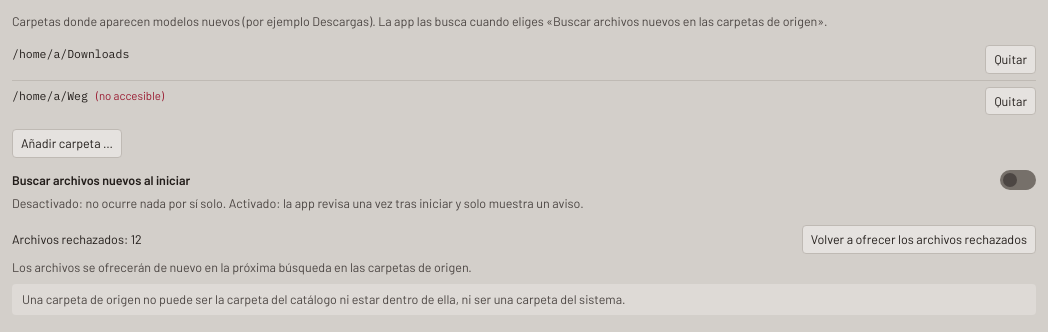
Test case: keeps the full declined-file action operable in es
The width and height of the screenshot is (1048, 332).
Click the button "Volver a ofrecer los archivos rechazados". click: (919, 239)
box: [802,225,1036,254]
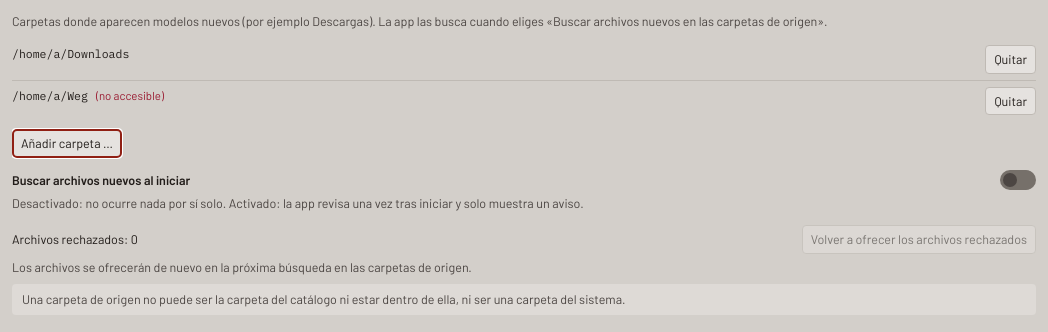
expect the button "Volver a ofrecer los archivos rechazados" is disabled: met, box [802,225,1036,254]
